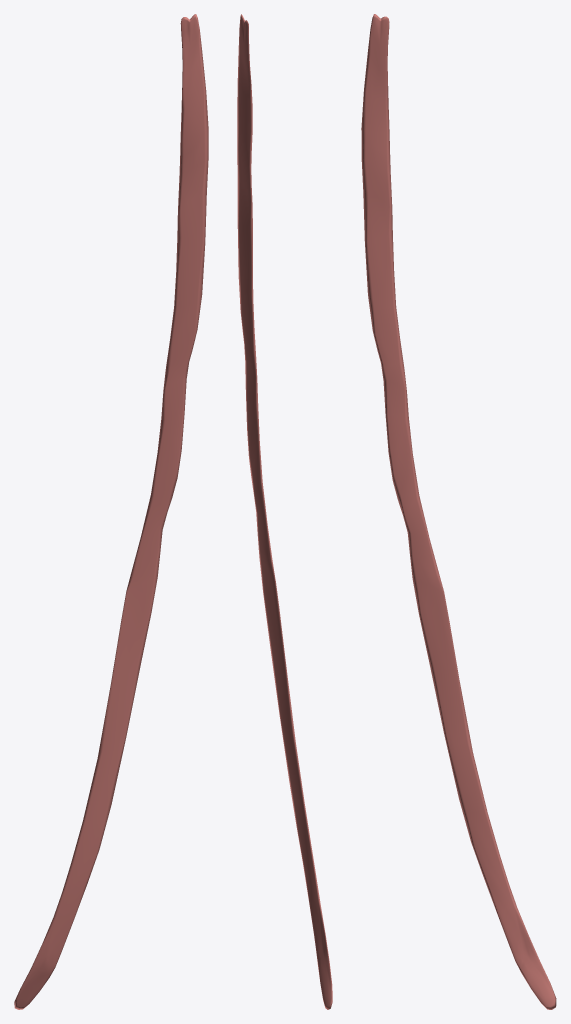
3 renders of one model, left to right at view 1: azimuth 90°, elevation 25°; view 2: azimuth 210°, elevation 25°; view 3: azimuth 270°, elevation 25°, orthographic. The views are drawn at different scales.
Parts seen in each view (by area): view 1: ZA_552dd2f95af752ed; view 2: ZA_552dd2f95af752ed; view 3: ZA_552dd2f95af752ed.
Boxes of the visible parts, x1=… form: ZA_552dd2f95af752ed: x1=14, y1=14, x2=208, y2=1009; ZA_552dd2f95af752ed: x1=237, y1=14, x2=332, y2=1009; ZA_552dd2f95af752ed: x1=361, y1=14, x2=556, y2=1009.
Size of the model in its own units: 0.00606 by 0.3919 by 0.0694.
